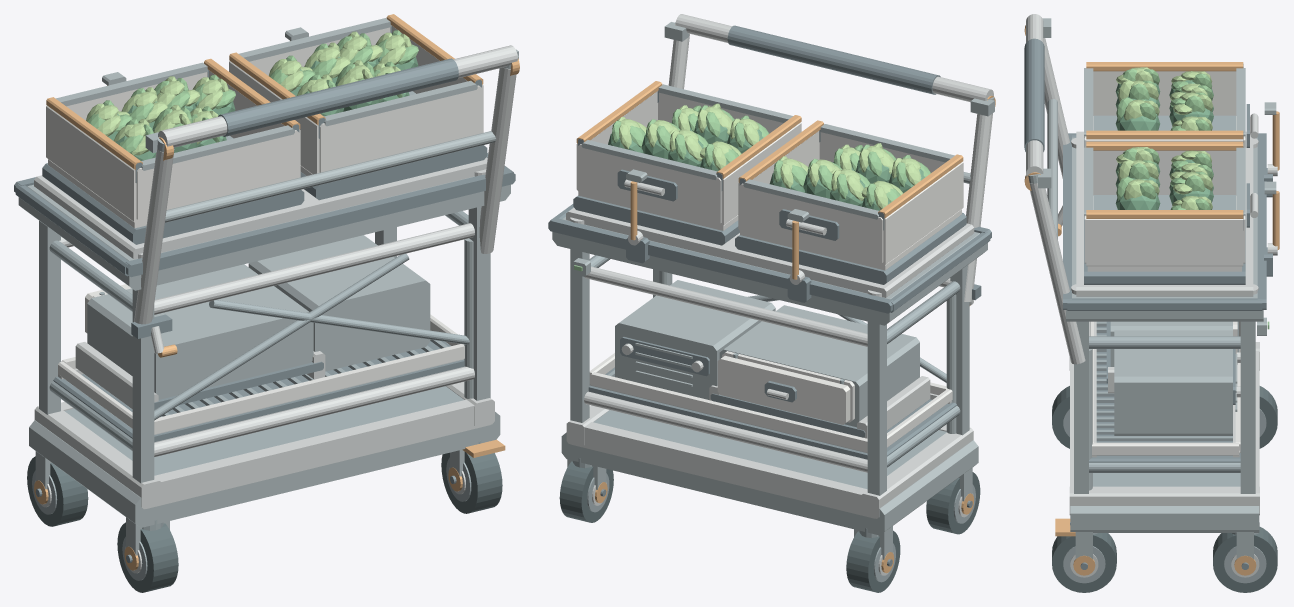
File: harvest_cart_martian_hailmary.glb
3 views of the same model, side by side, from view 1: azimuth 30°, elevation 25°; view 2: azimuth 150°, elevation 25°; view 3: azimuth 270°, elevation 25° (orthographic). The views are drawn at different scales.
Parts seen in each view (by area): view 1: Static__gunmetal, Static__steel, Static__graphite, Static__darksteel, Upper_Bin_Left__cream, Upper_Bin_Right__bone, Static__bone, Harvested_Produce_Left__leaf_light, Upper_Bin_Left__graphite, Harvested_Produce_Right__leaf_light, Upper_Bin_Right__gunmetal, Upper_Bin_Left__gunmetal (+11 smaller); view 2: Static__gunmetal, Static__steel, Static__graphite, Upper_Bin_Left__cream, Upper_Bin_Right__bone, Static__darksteel, Static__bone, Lower_Drawer__cream, Upper_Bin_Left__graphite, Upper_Bin_Right__graphite, Harvested_Produce_Left__leaf_light, Harvested_Produce_Right__leaf_light (+12 smaller); view 3: Static__gunmetal, Static__steel, Upper_Bin_Right__bone, Static__graphite, Static__darksteel, Upper_Bin_Left__cream, Upper_Bin_Left__ochre, Upper_Bin_Right__ochre, Static__bone, Upper_Bin_Right__graphite, Harvested_Produce_Left__leaf_light, Harvested_Produce_Right__leaf_light (+17 smaller).
Part boxes in pixels (box(x1,y1,x2,y2)): Static__gunmetal: box(18, 49, 518, 555); Static__steel: box(34, 45, 517, 509); Static__graphite: box(14, 58, 515, 442); Static__darksteel: box(49, 211, 481, 530); Upper_Bin_Left__cream: box(46, 70, 300, 228); Upper_Bin_Right__bone: box(229, 26, 483, 175); Static__bone: box(58, 314, 464, 434); Harvested_Produce_Left__leaf_light: box(86, 76, 228, 155); Upper_Bin_Left__graphite: box(42, 69, 304, 244); Harvested_Produce_Right__leaf_light: box(269, 31, 411, 99); Upper_Bin_Right__gunmetal: box(239, 18, 477, 126); Upper_Bin_Left__gunmetal: box(55, 62, 294, 170); Static__gunmetal: box(552, 22, 994, 559); Static__steel: box(566, 14, 993, 518); Static__graphite: box(548, 25, 991, 459); Upper_Bin_Left__cream: box(738, 131, 963, 270); Upper_Bin_Right__bone: box(576, 91, 801, 230); Static__darksteel: box(573, 255, 960, 538); Static__bone: box(589, 353, 952, 452); Lower_Drawer__cream: box(717, 355, 850, 424); Upper_Bin_Left__graphite: box(735, 130, 966, 284); Upper_Bin_Right__graphite: box(573, 92, 739, 245); Harvested_Produce_Left__leaf_light: box(779, 143, 921, 209); Harvested_Produce_Right__leaf_light: box(617, 103, 759, 170); Static__gunmetal: box(1027, 18, 1266, 559); Static__steel: box(1026, 14, 1259, 515); Upper_Bin_Right__bone: box(1084, 150, 1245, 271); Static__graphite: box(1024, 38, 1266, 462); Static__darksteel: box(1070, 321, 1259, 534); Upper_Bin_Left__cream: box(1084, 71, 1245, 147); Upper_Bin_Left__ochre: box(1086, 62, 1243, 139); Upper_Bin_Right__ochre: box(1086, 141, 1243, 218); Static__bone: box(1090, 321, 1240, 455); Upper_Bin_Right__graphite: box(1084, 143, 1249, 284); Harvested_Produce_Left__leaf_light: box(1116, 67, 1213, 130); Harvested_Produce_Right__leaf_light: box(1116, 147, 1213, 209).
Size of the model in its own units: 1.42 by 1.67 by 0.903.
